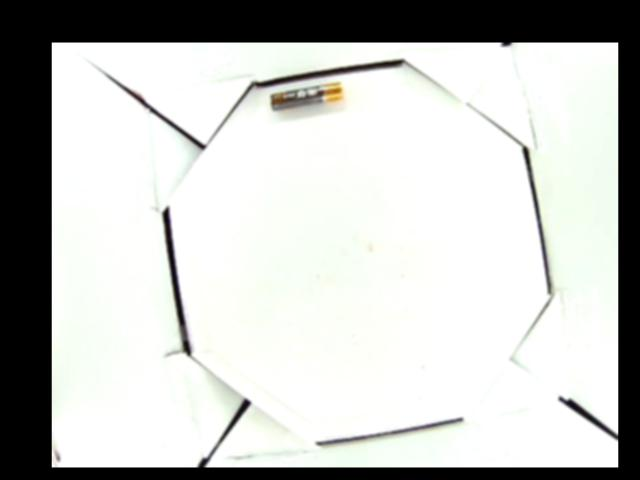Battery: (268, 81, 344, 115)
